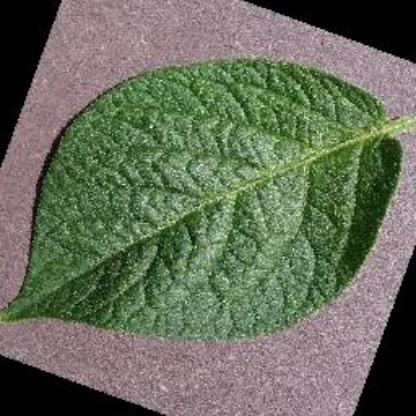Healthy-plant: (7, 45, 410, 360)
